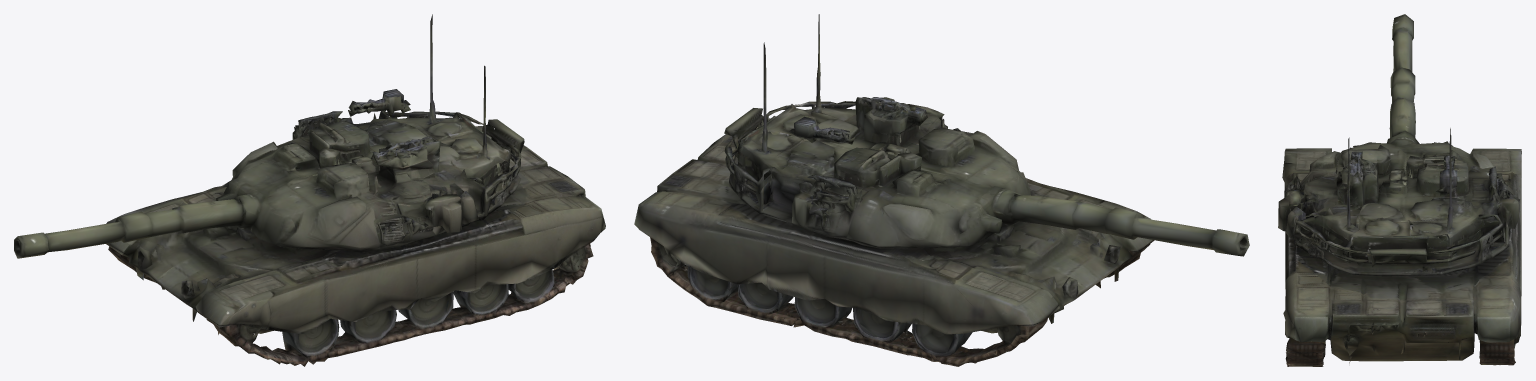
File: Steel_Guardian_0531205949_texture.glb
The picture shows the model from 3 angles, left to right: view 1: azimuth 30°, elevation 25°; view 2: azimuth 150°, elevation 25°; view 3: azimuth 270°, elevation 25°; orthographic projection. The views are drawn at different scales.
Bounding box in the file's own units: 2 × 0.8564 × 0.8171.
Materials: 1 (1 with a texture image).
